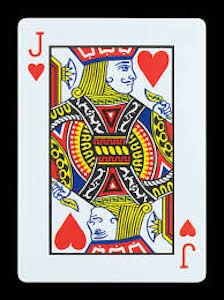JackOfHearts: (15, 14, 211, 287)
